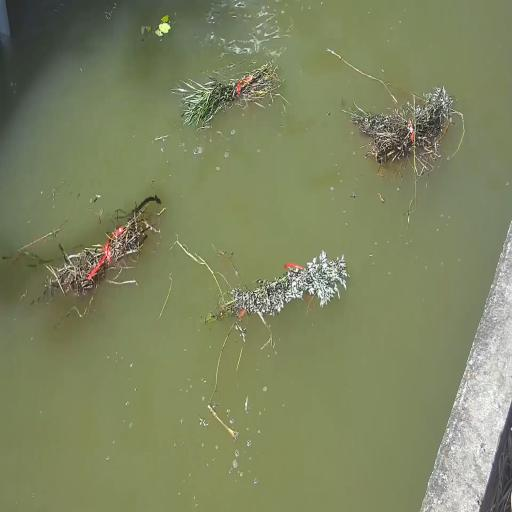twig: (212, 251, 349, 335), (356, 88, 453, 172), (50, 215, 144, 300), (174, 62, 276, 126), (138, 8, 176, 50)
